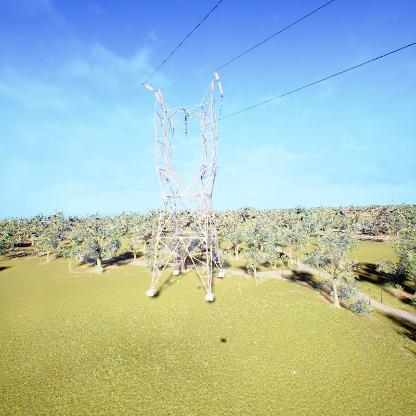tower: (142, 70, 226, 303)
